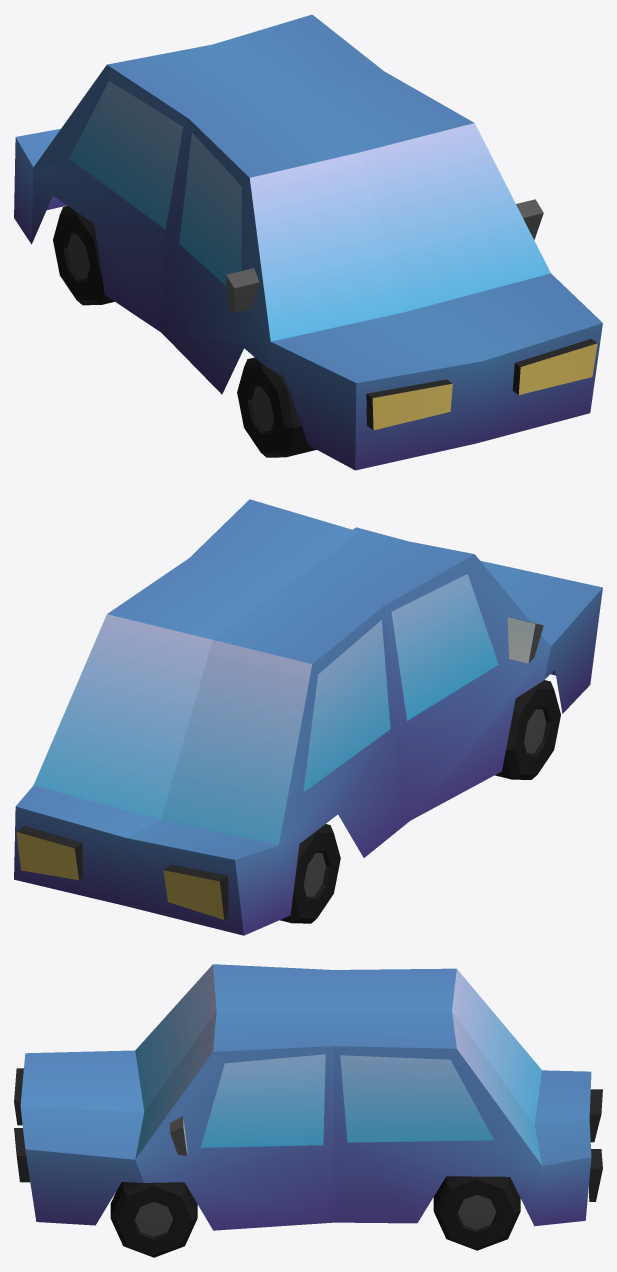
File: generic2.fbx
3 views of the same model, one above another, from view 1: azimuth 30°, elevation 25°; view 2: azimuth 150°, elevation 25°; view 3: azimuth 270°, elevation 25° (orthographic). The views are drawn at different scales.
Visible parts, largest first — view 1: car_base.004; view 2: car_base.004; view 3: car_base.004.
Boxes of the visible parts, x1,y1,x2,y2 form: car_base.004: (14,14,602,470); car_base.004: (14,499,602,935); car_base.004: (14,964,602,1257).
Bounding box in the file's own units: 203 × 155 × 419.
